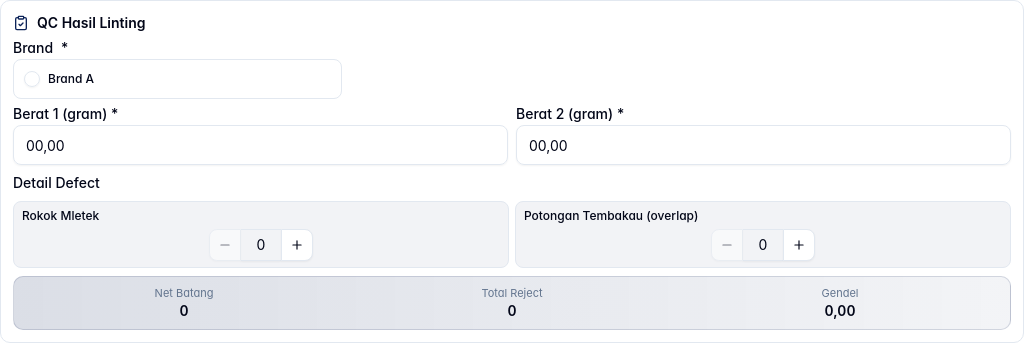
QC Linting fields › does not silently choose a brand and accepts comma weights and defect counts
This screenshot has width=1024, height=360.
Expected: the radio button named "Brand A" is not checked, [24,71,40,87]
Click the text "Brand A".
click(71, 79)  # box [48,71,94,87]
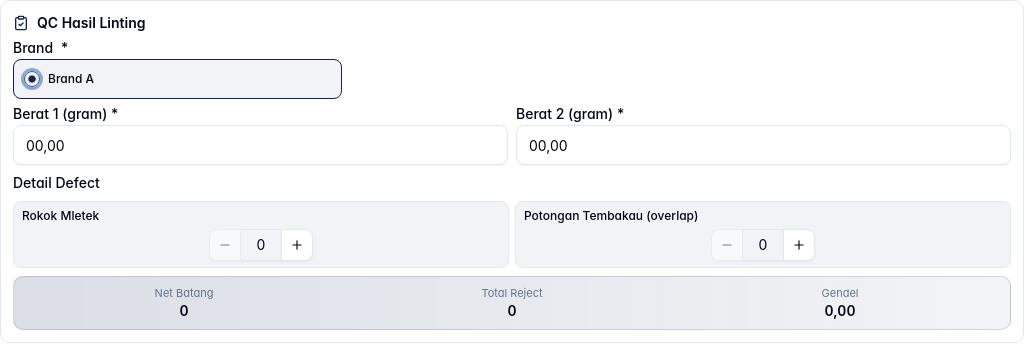
Result: the radio button named "Brand A" is checked at [24,71,40,87]
Type "71,29" into the field labelled "Berat 1 (gram) *".
click(260, 145); type("71,29")  # box [13,125,508,165]
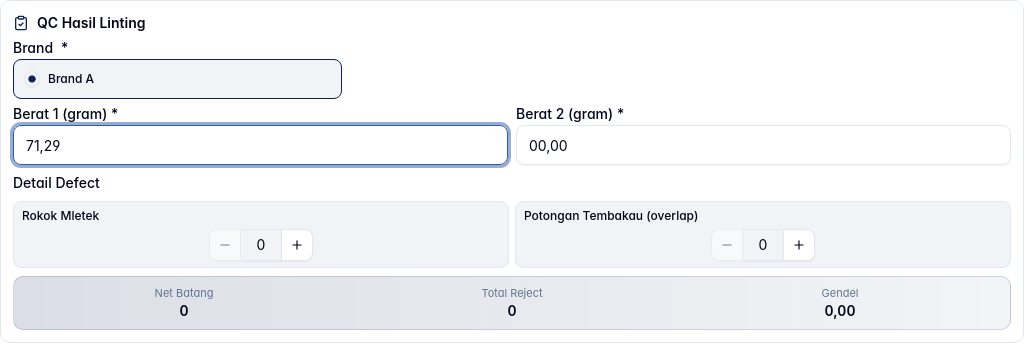
Type "70.05" into the field labelled "Berat 2 (gram) *".
click(764, 145); type("70.05")  # box [516,125,1011,165]
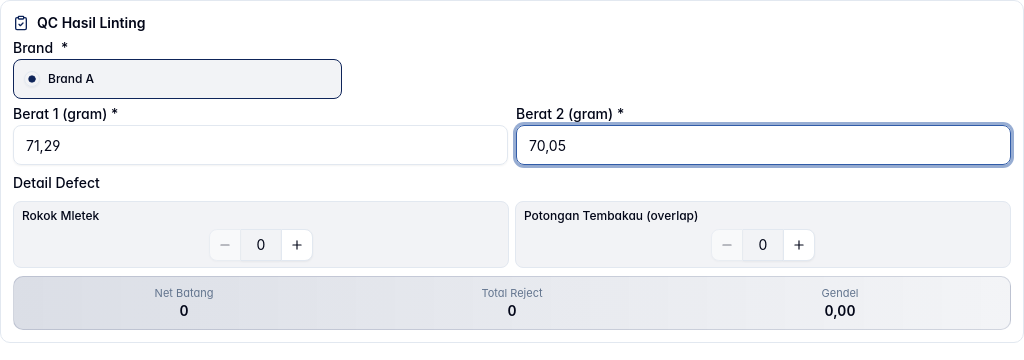
Replace the text in the field labelled "Rokok Mletek" with "900" at (261, 244), box [241,228,281,260]
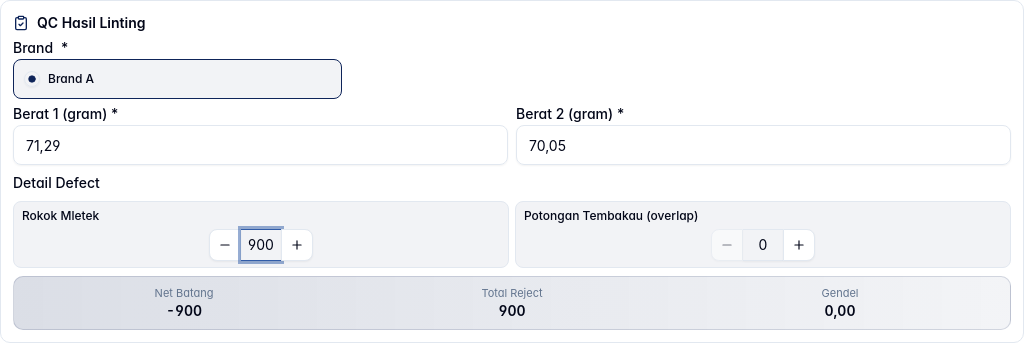
Result: the text "900" is shown at [498,302,526,319]
